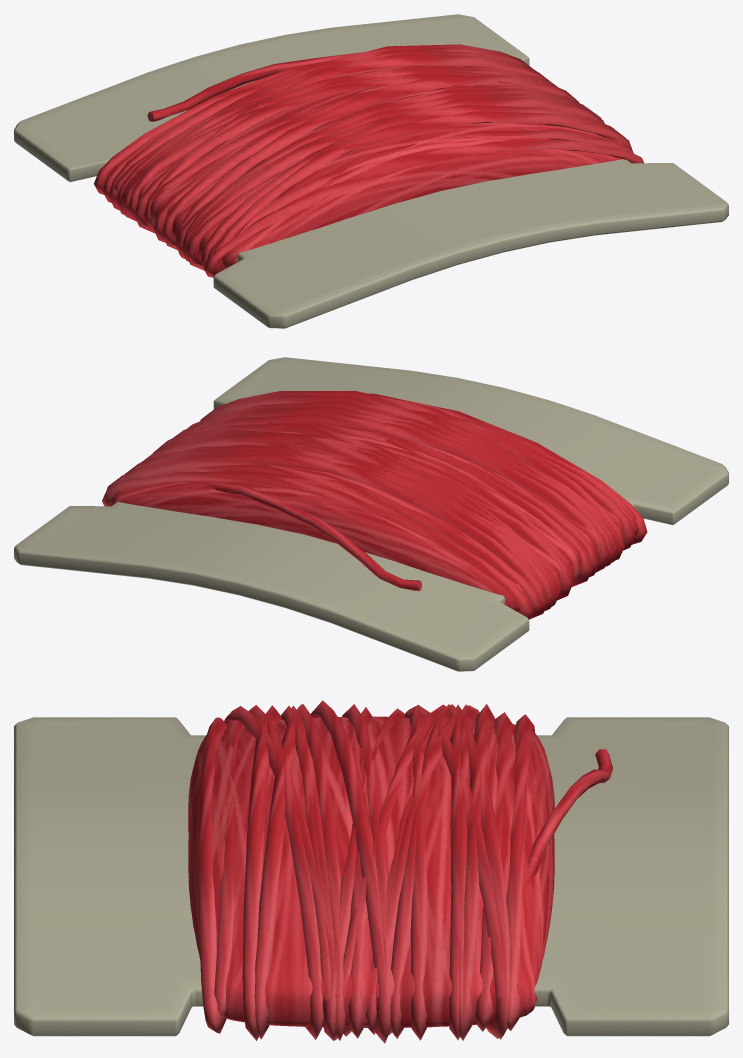
Rendered from Thread.glb.
3 renders of one model, top to bottom at view 1: azimuth 30°, elevation 25°; view 2: azimuth 150°, elevation 25°; view 3: azimuth 270°, elevation 25°, orthographic. The views are drawn at different scales.
Parts seen in each view (by area): view 1: PaperCard, ThreadsBlobLow, ThreadBlobPillowBase, ThreadLooseEnd; view 2: PaperCard, ThreadsBlobLow, ThreadBlobPillowBase, ThreadLooseEnd; view 3: PaperCard, ThreadsBlobLow, ThreadBlobPillowBase, ThreadLooseEnd.
Part boxes in pixels (x1,y1,x2,y2): PaperCard: (14,14,728,328); ThreadsBlobLow: (94,44,643,277); ThreadBlobPillowBase: (138,65,631,268); ThreadLooseEnd: (147,52,362,121); PaperCard: (14,357,728,671); ThreadsBlobLow: (102,391,647,619); ThreadBlobPillowBase: (111,415,623,611); ThreadLooseEnd: (183,481,421,591); PaperCard: (14,717,728,1036); ThreadsBlobLow: (198,700,534,1043); ThreadBlobPillowBase: (188,716,554,1027); ThreadLooseEnd: (522,749,612,898).
Bounding box in the file's own units: 0.0647 × 0.018 × 0.0647.
Materials: 2 (1 with a texture image).
